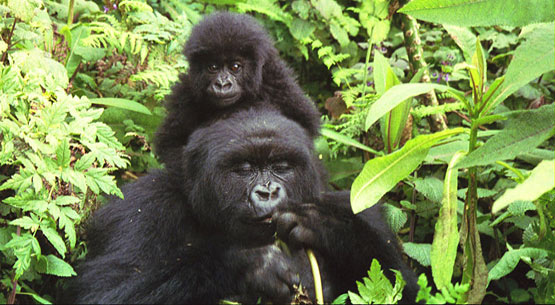Goriila: (98, 108, 409, 305), (154, 5, 331, 139)
